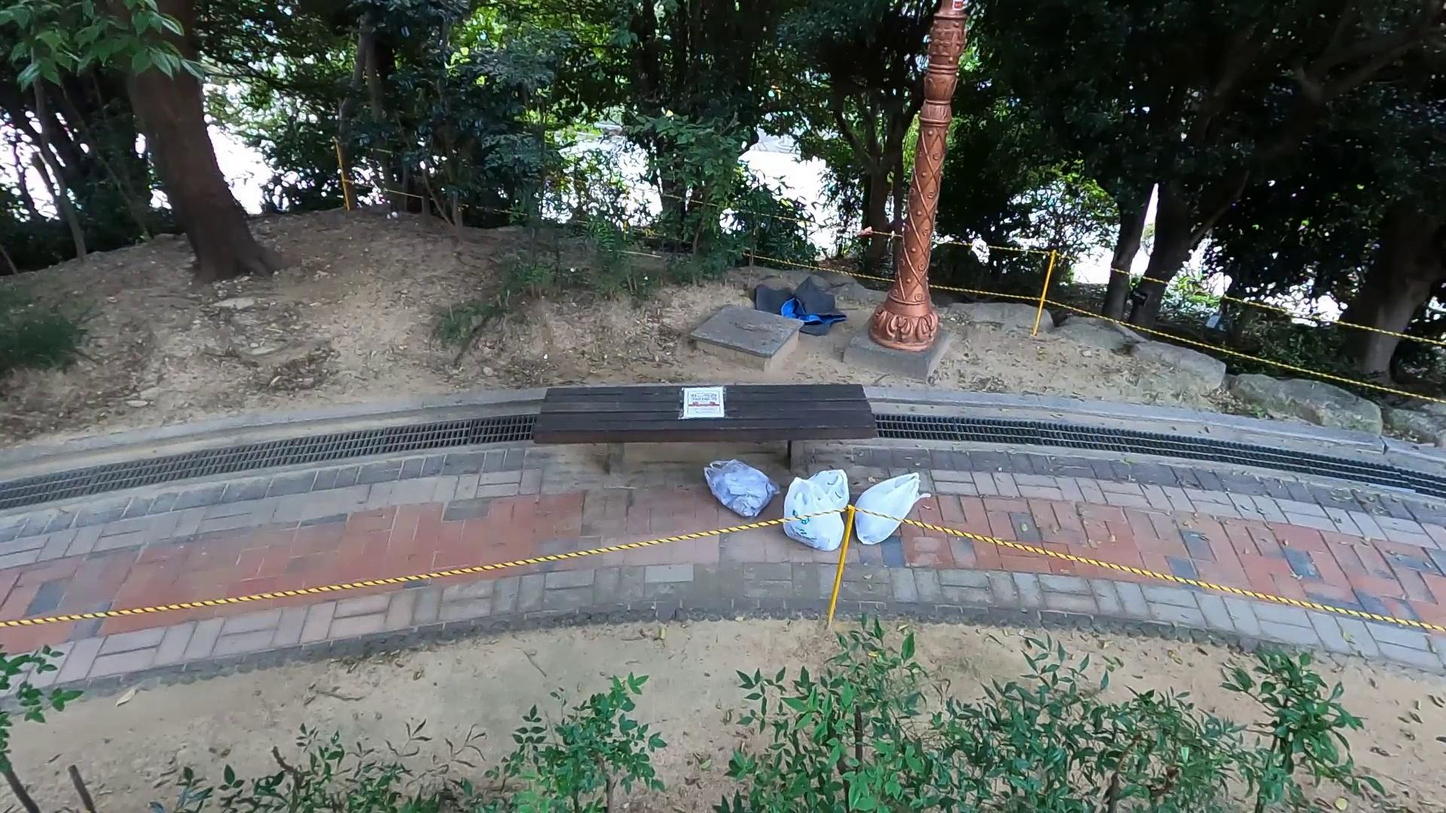trash: (853, 471, 931, 545), (697, 454, 783, 521), (783, 475, 845, 553), (801, 466, 854, 516)
